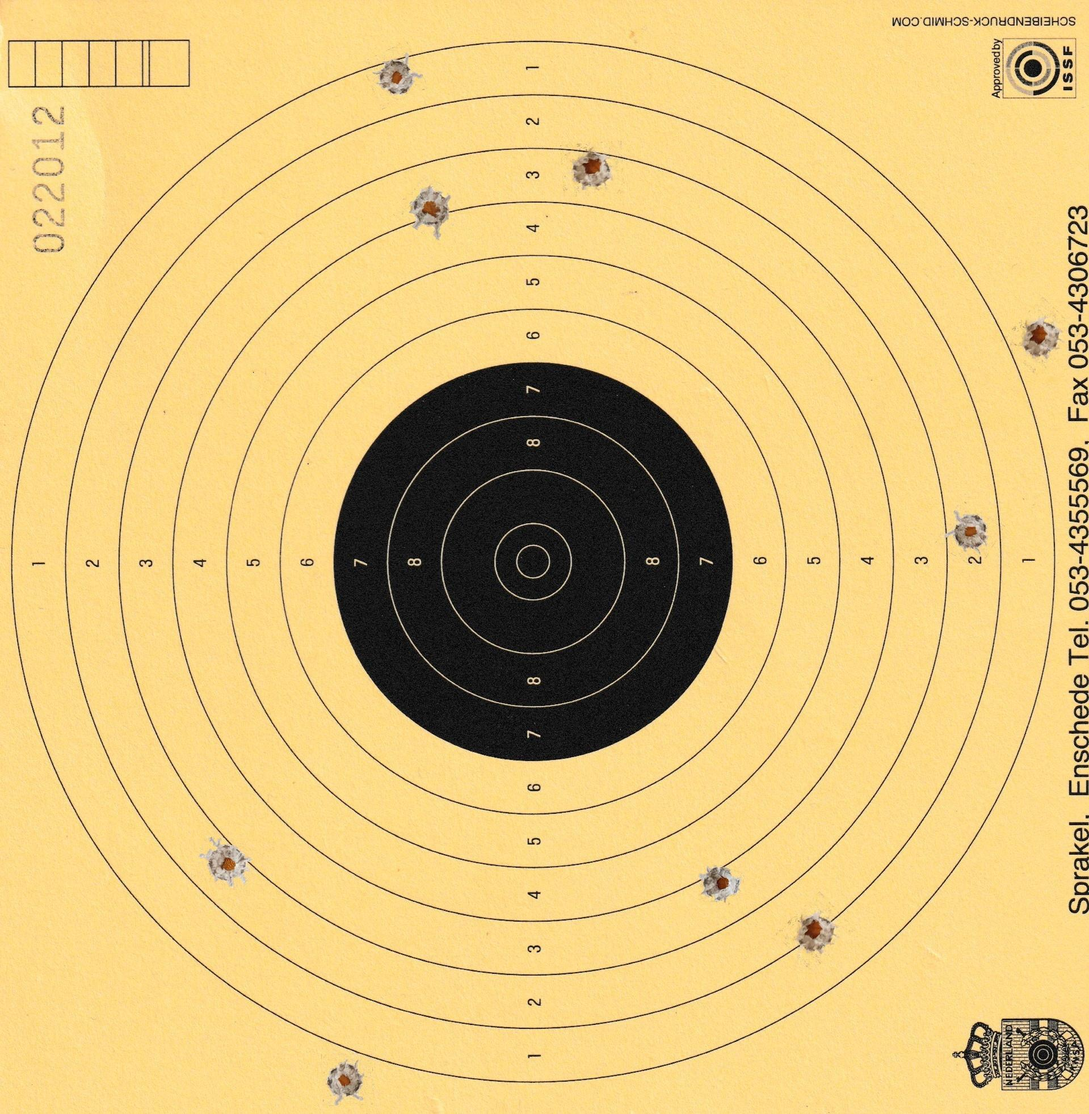hole: (201, 834, 254, 888), (409, 187, 453, 237), (373, 52, 422, 96), (569, 146, 613, 194), (945, 513, 991, 555), (1019, 314, 1059, 362), (697, 864, 742, 903), (323, 1060, 363, 1100), (796, 913, 834, 953)
